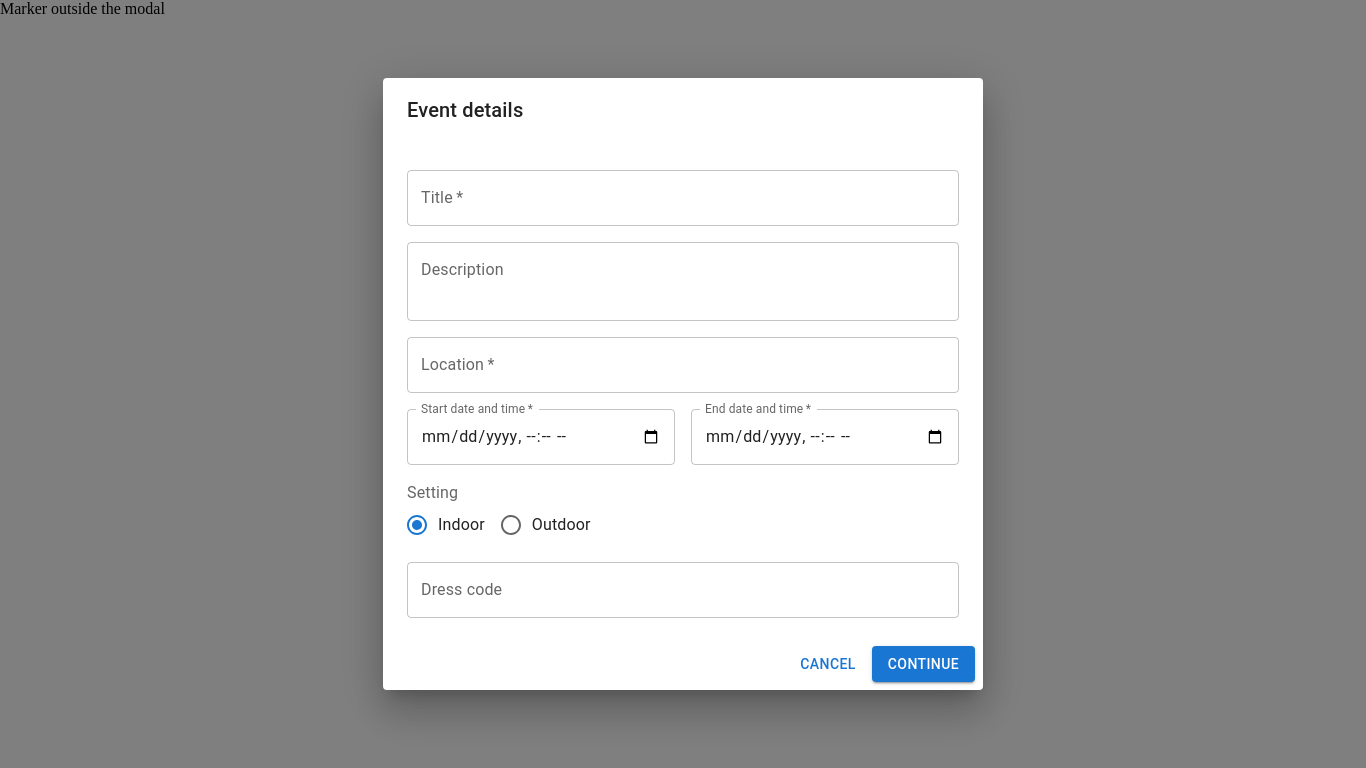
EventSetupModal › Continue creates the event and transitions to Step 2 without a full page reload
In the field labelled "Title *": coordinates (683, 198) [407,170,959,226], type "Birthday party"
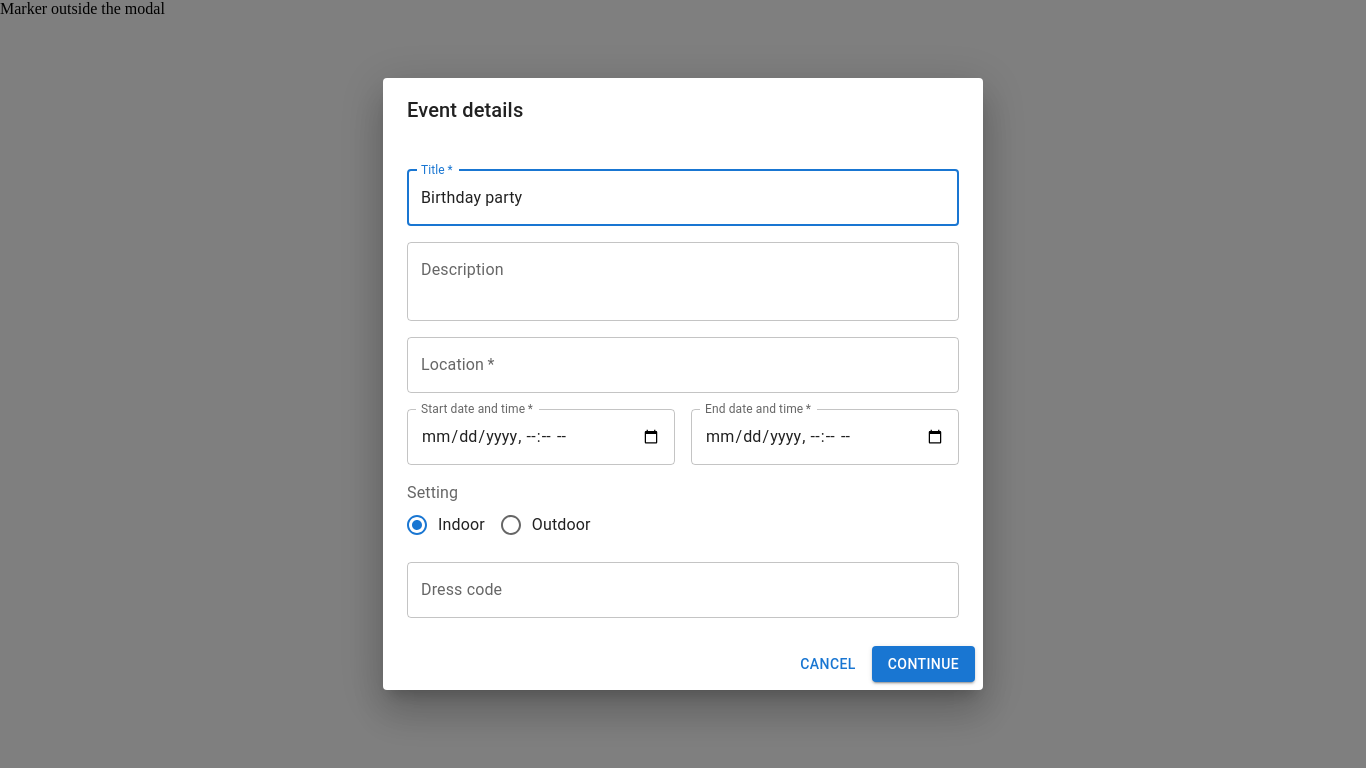
In the field labelled "Location *": coordinates (683, 365) [407,337,959,393], type "123 Main St"
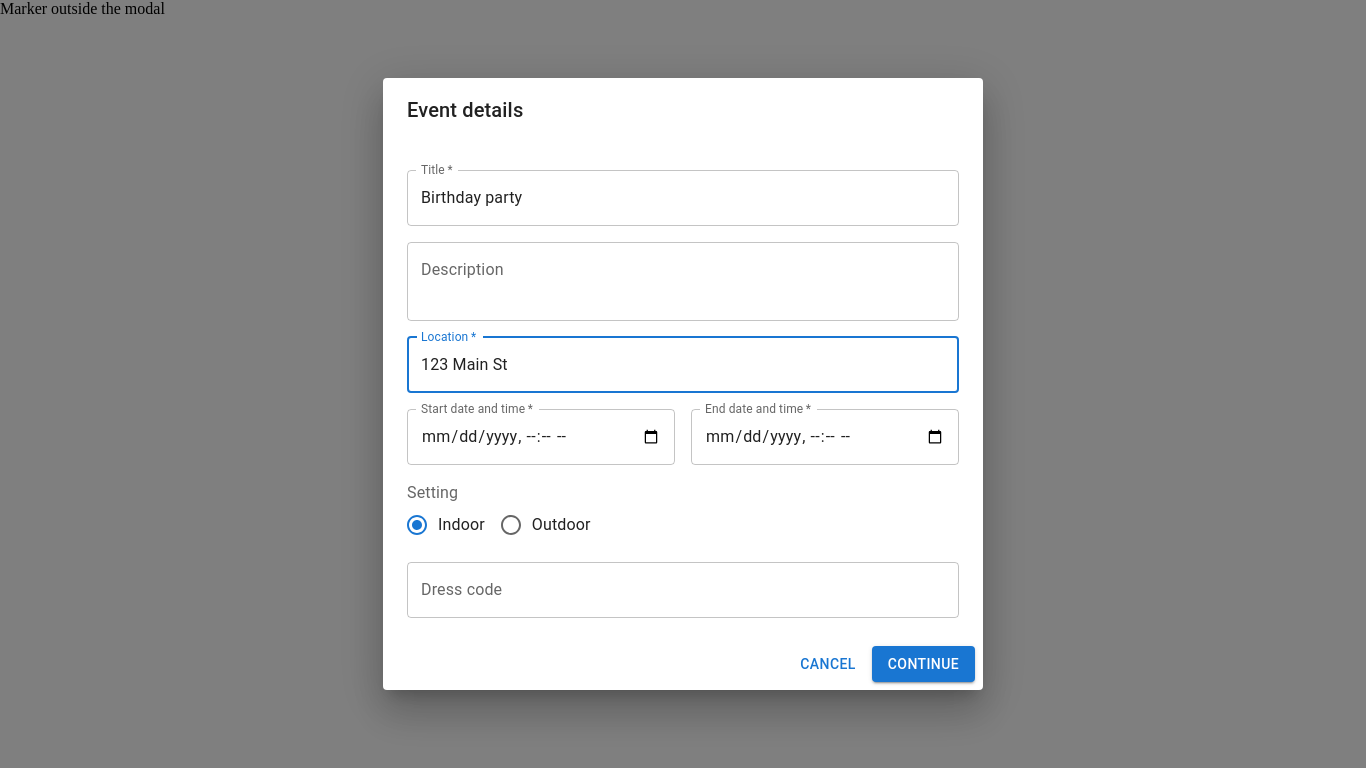
In the field labelled "Start date and time *": coordinates (541, 437) [407,409,675,465], type "2026-08-01T18:00"
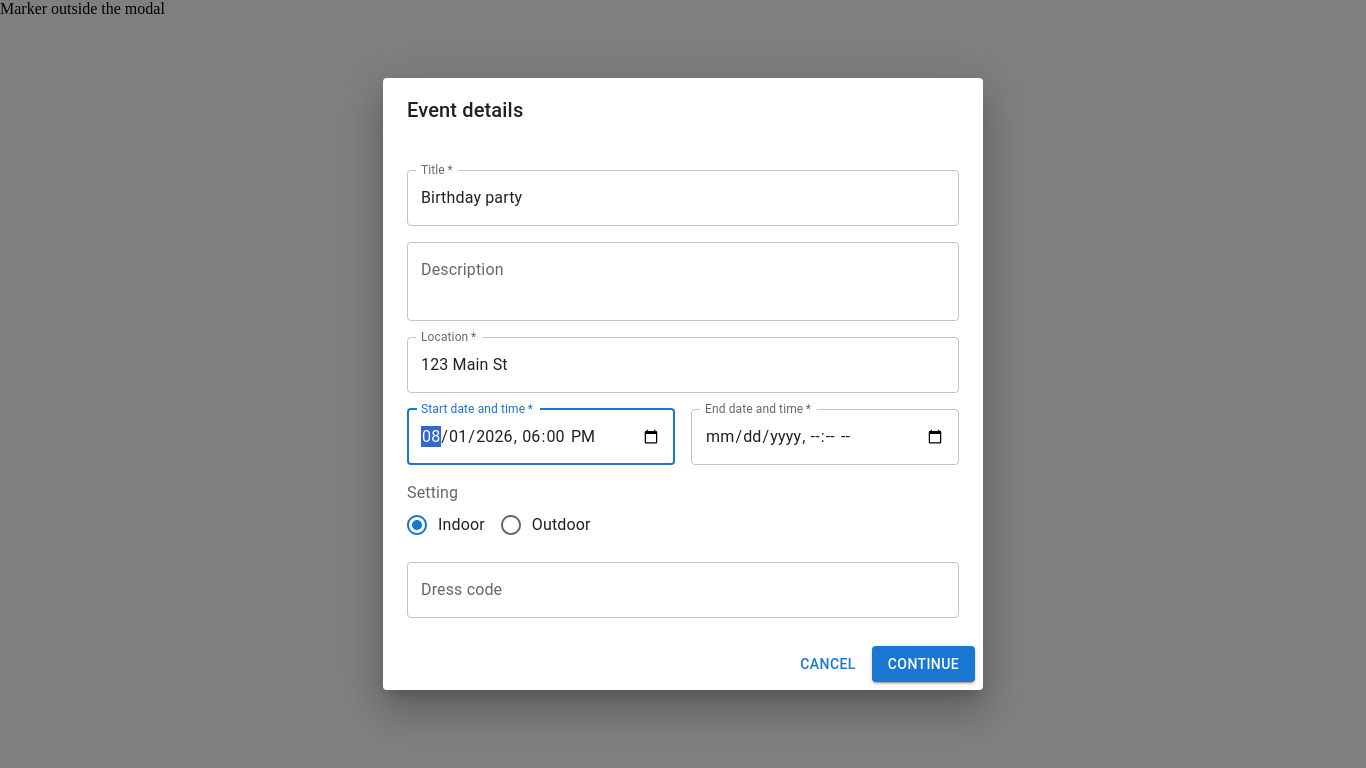
In the field labelled "End date and time *": coordinates (825, 437) [691,409,959,465], type "2026-08-01T21:00"
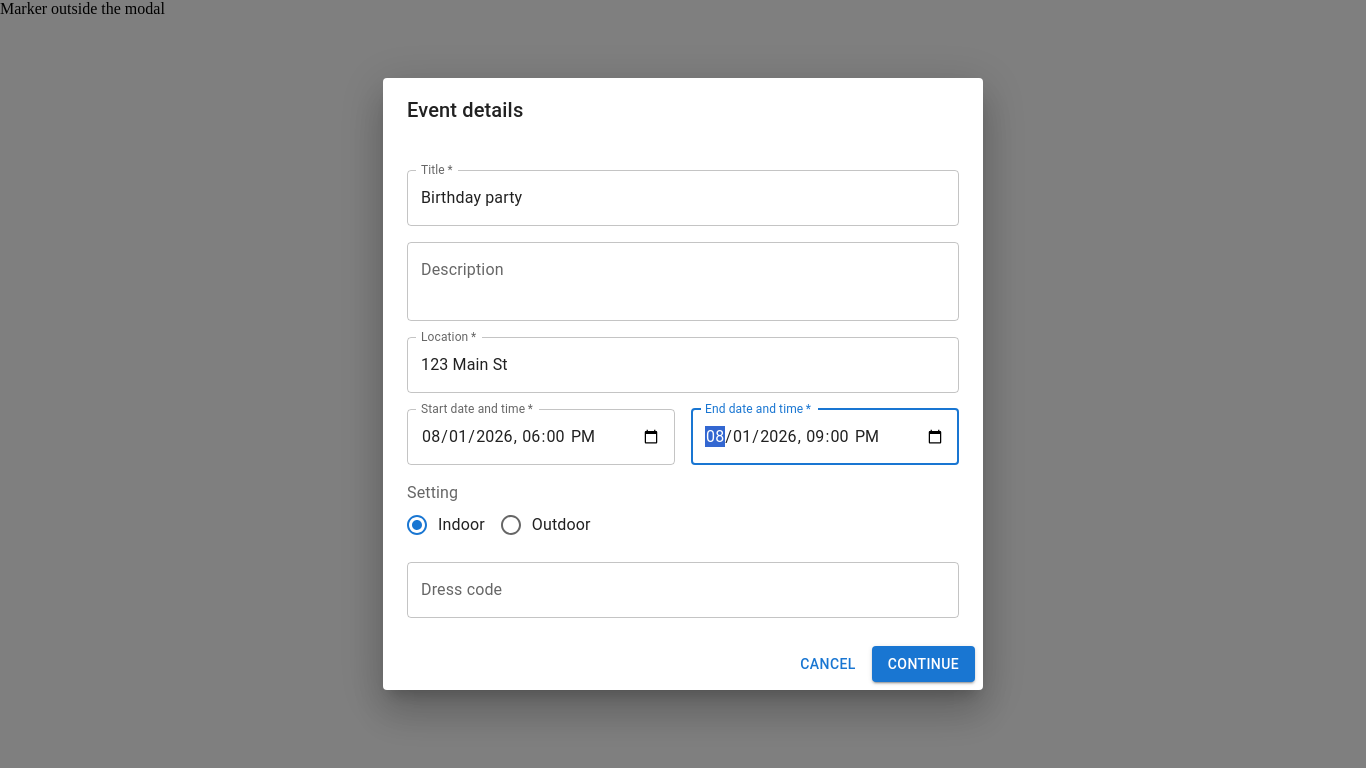
Click the button "Continue": coordinates (923, 664) [872,646,975,682]
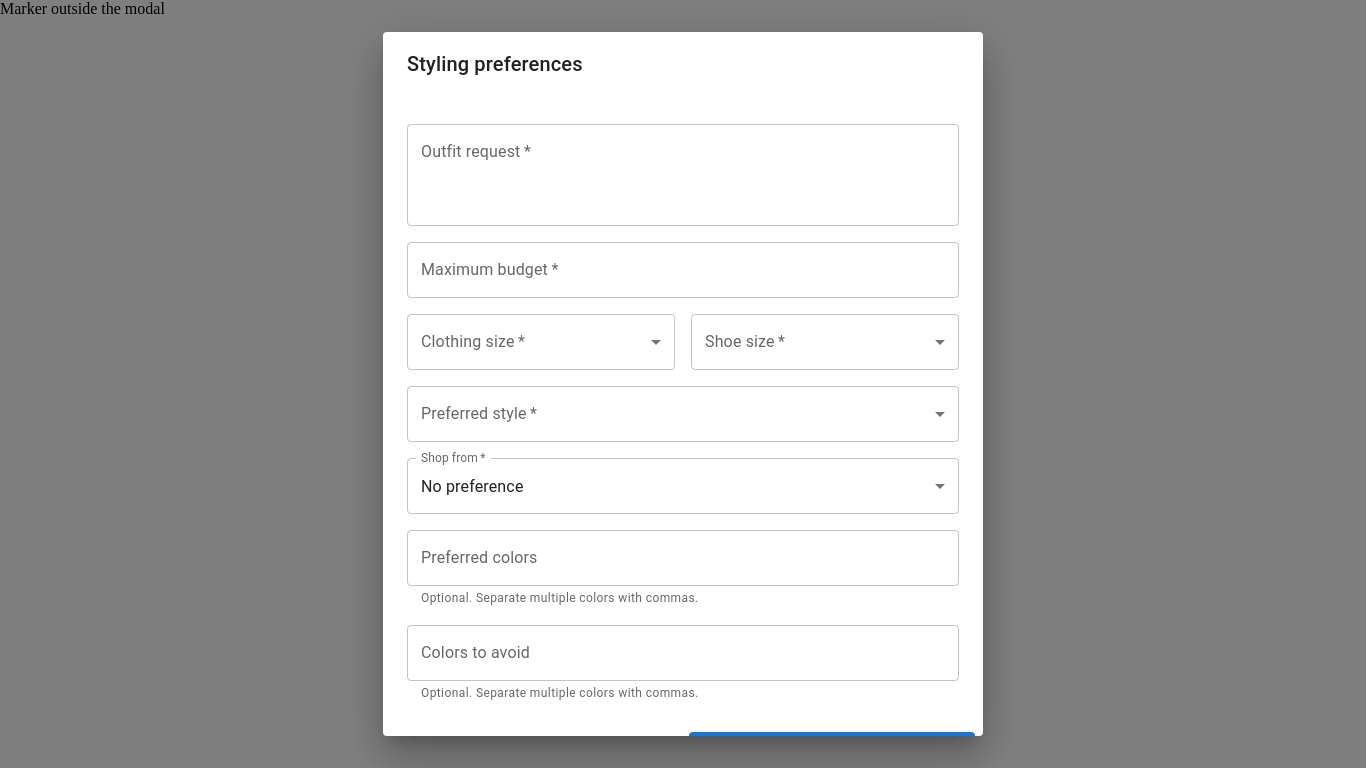
Check: the text "Marker outside the modal" is shown, box [0,0,165,17]
Check: the heading "Styling preferences" is shown, box [407,52,583,76]
